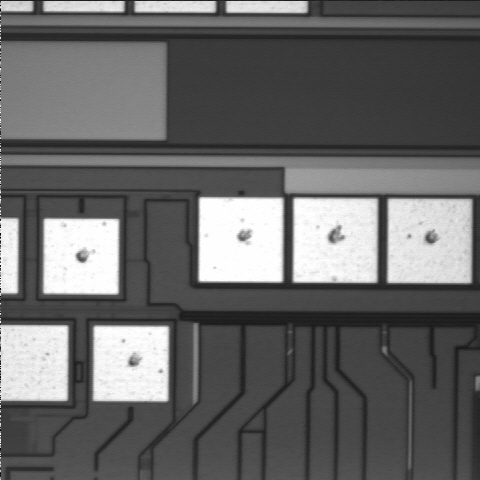pad: (293, 198, 378, 283), (199, 197, 283, 282), (388, 199, 471, 283), (43, 219, 119, 295), (93, 326, 169, 401)
